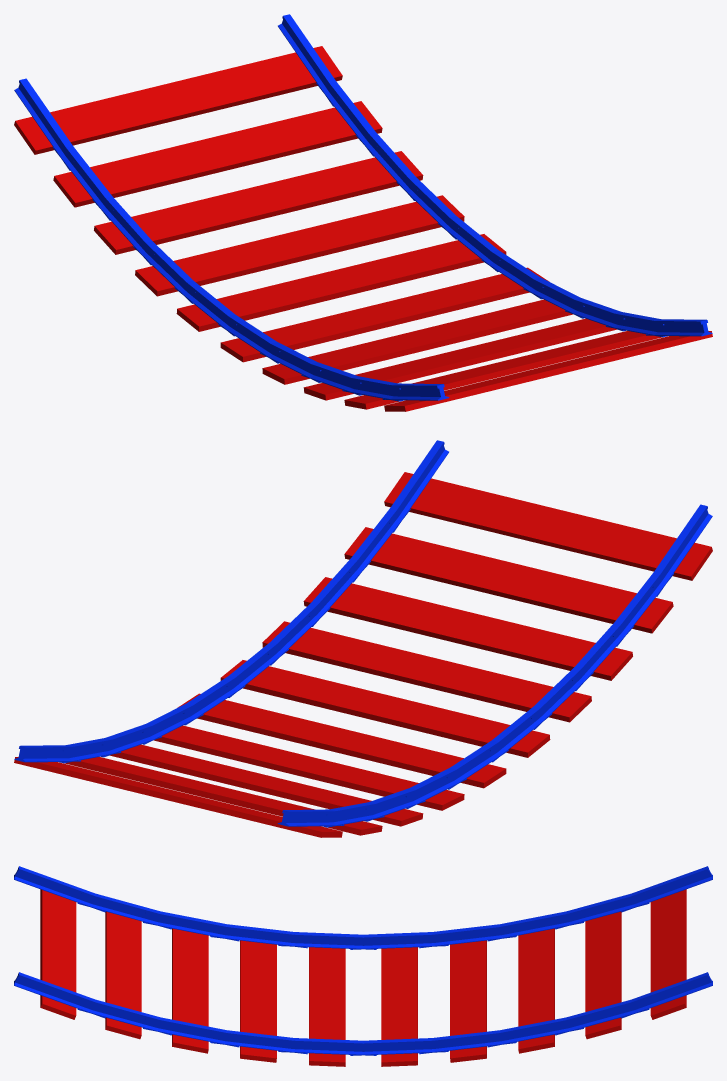
File: bendup_railway_tracks.fbx
3 views of the same model, one above another, from view 1: azimuth 30°, elevation 25°; view 2: azimuth 150°, elevation 25°; view 3: azimuth 270°, elevation 25° (orthographic). The views are drawn at different scales.
Parts seen in each view (by area): view 1: rails.002; view 2: rails.002; view 3: rails.002.
Part boxes in pixels (box(x1,y1,x2,y2)): rails.002: box(14, 14, 712, 411); rails.002: box(14, 440, 712, 837); rails.002: box(14, 866, 712, 1066).
Bounding box in the file's own units: 312 × 99.47 × 745.
